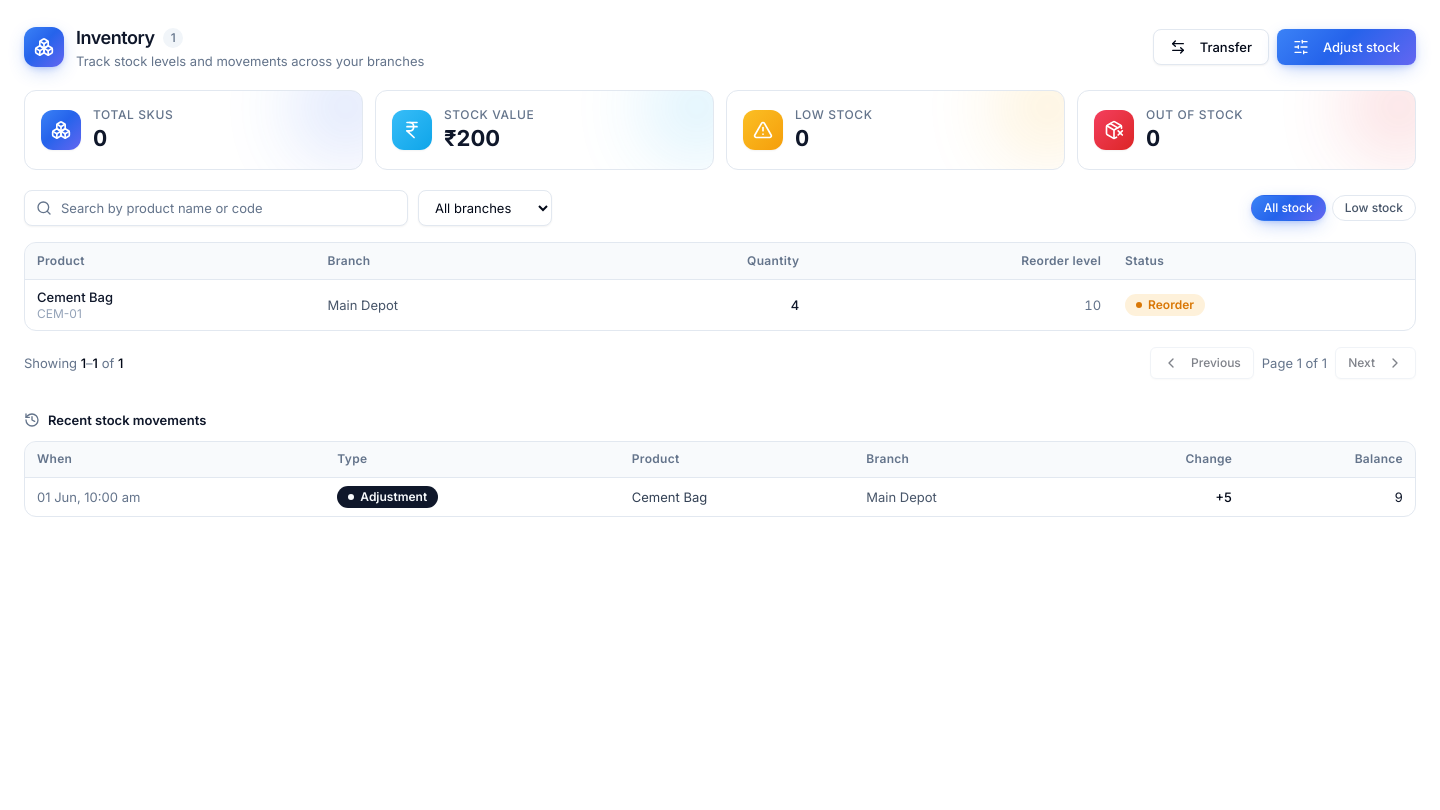
Test case: InventoryView › opens the transfer dialog
The width and height of the screenshot is (1440, 810).
Click the button "Transfer" at (1211, 47), box left=1153, top=29, right=1269, bottom=65
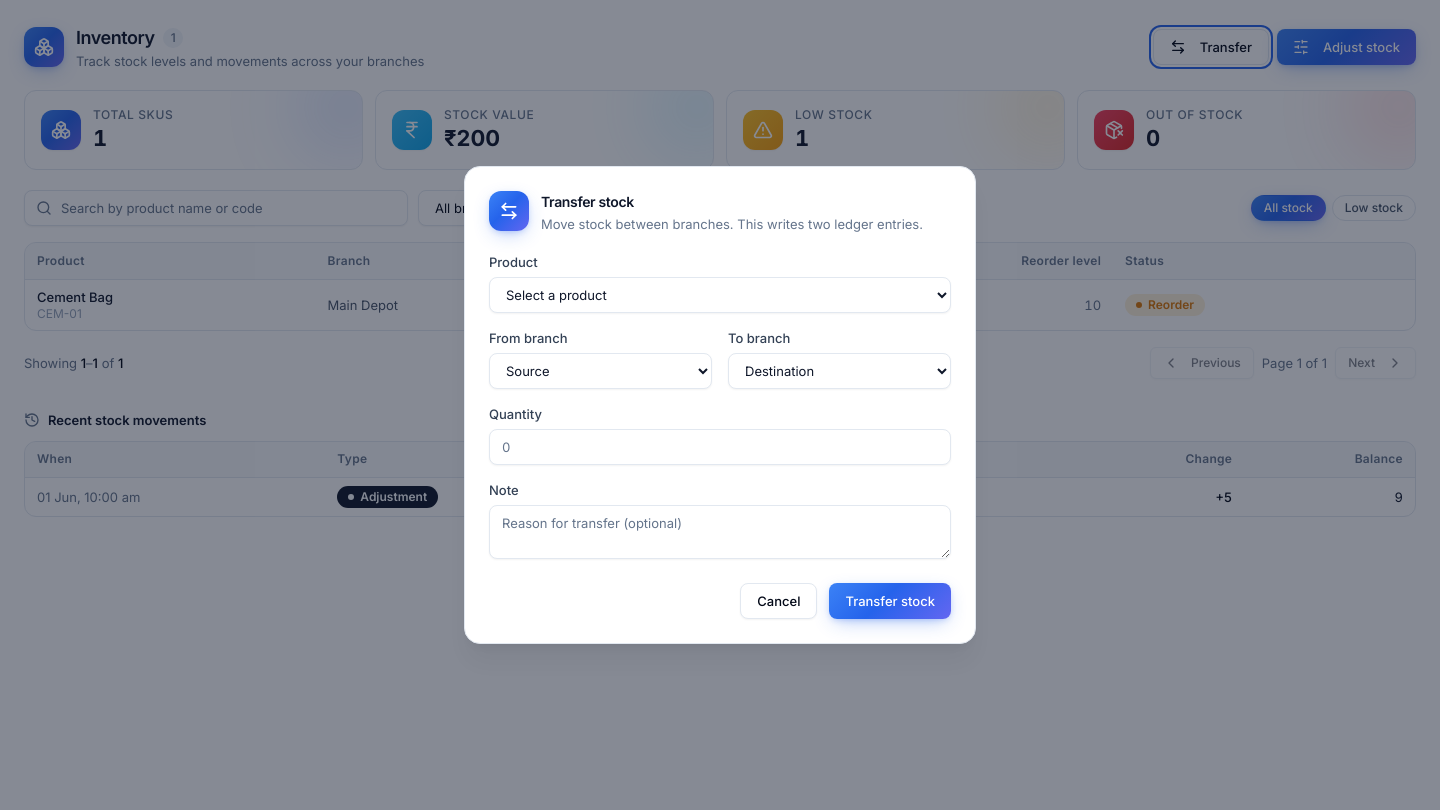
Expected: the heading "Transfer stock" is shown, left=541, top=193, right=634, bottom=210
